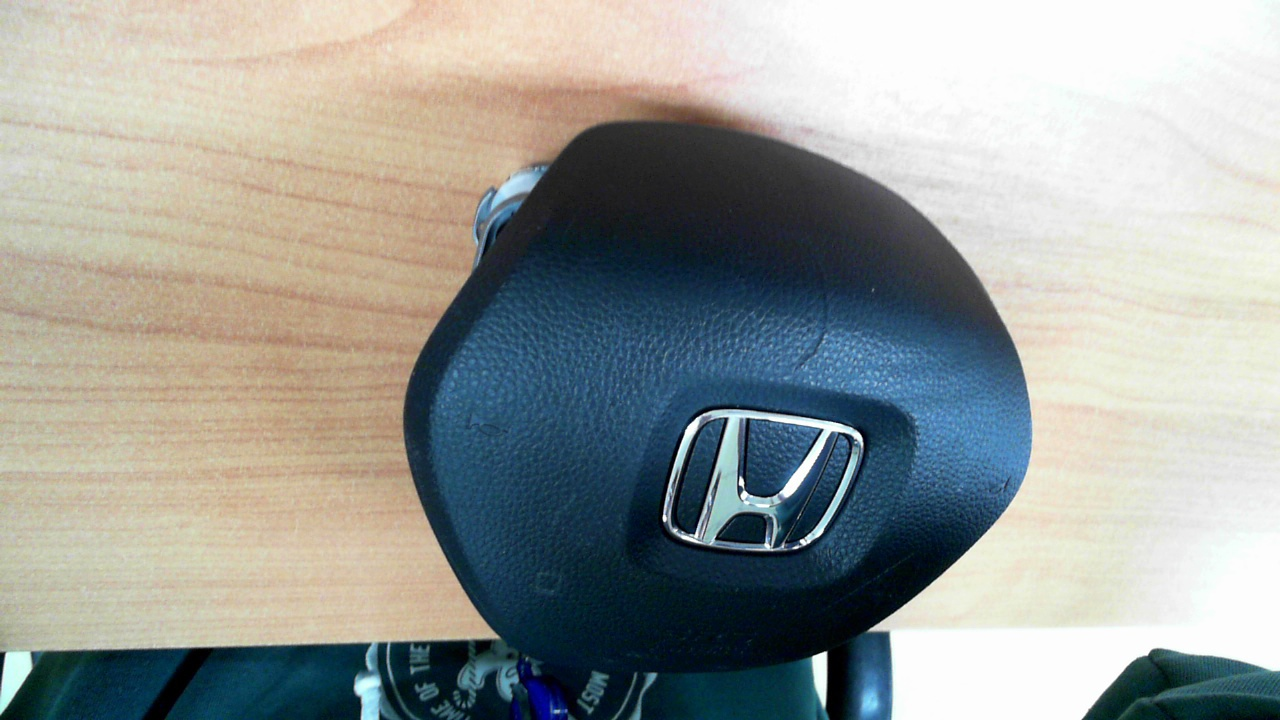Airbag: (400, 120, 1034, 674)
Honda: (661, 408, 865, 552)
